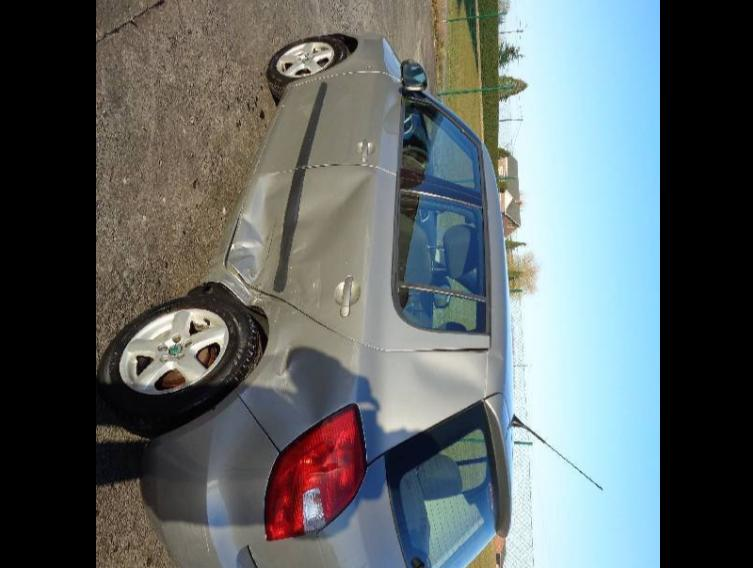Broken part: (228, 262, 288, 300), (394, 346, 490, 352)
Dent: (276, 160, 380, 266), (226, 204, 284, 292), (253, 336, 314, 400), (207, 266, 282, 318), (394, 354, 470, 396), (246, 172, 290, 210), (276, 272, 308, 314), (482, 356, 502, 380)
Paint chip: (202, 314, 209, 326)
Scratch: (216, 268, 276, 314), (266, 218, 278, 260), (312, 278, 320, 298), (342, 258, 348, 264)
